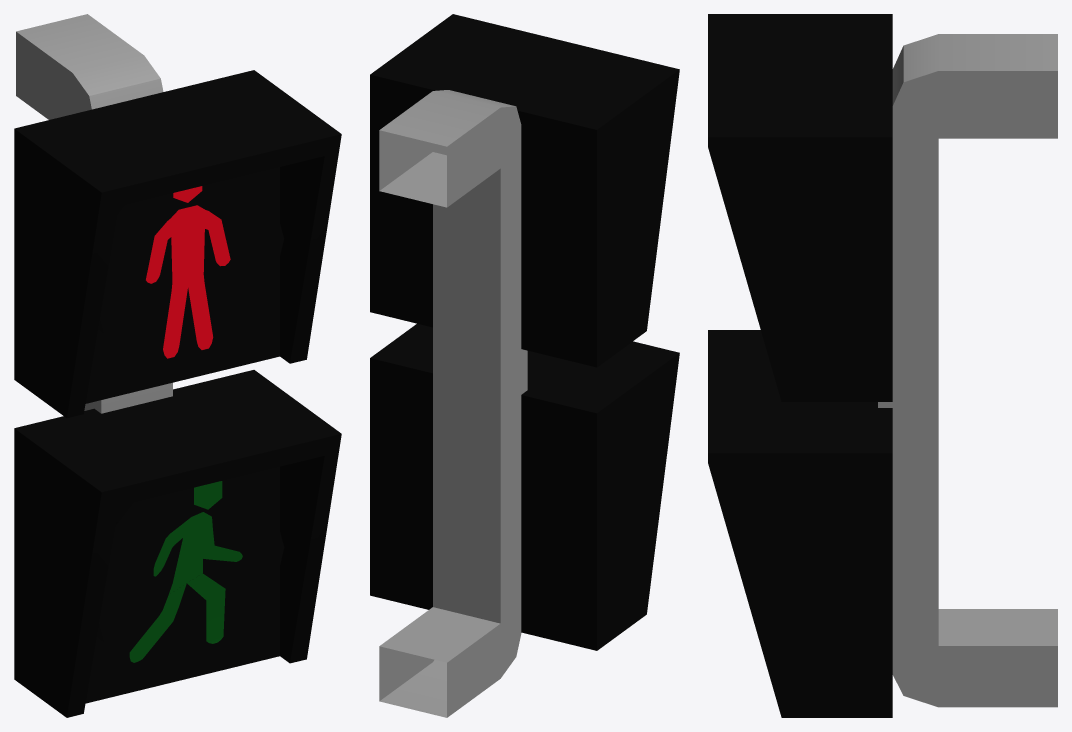
Rendered from SemaforoPedestreLOD0.fbx.
3 views of the same model, side by side, from view 1: azimuth 30°, elevation 25°; view 2: azimuth 150°, elevation 25°; view 3: azimuth 270°, elevation 25° (orthographic). The views are drawn at different scales.
Parts seen in each view (by area): view 1: SemaforoPedestresLOD0; view 2: SemaforoPedestresLOD0; view 3: SemaforoPedestresLOD0.
Boxes of the visible parts, bbox=[...] form: SemaforoPedestresLOD0: bbox=[14, 14, 341, 717]; SemaforoPedestresLOD0: bbox=[370, 14, 679, 717]; SemaforoPedestresLOD0: bbox=[708, 14, 1057, 717].
Size of the model in its own units: 28.98 by 69.7 by 34.72.
